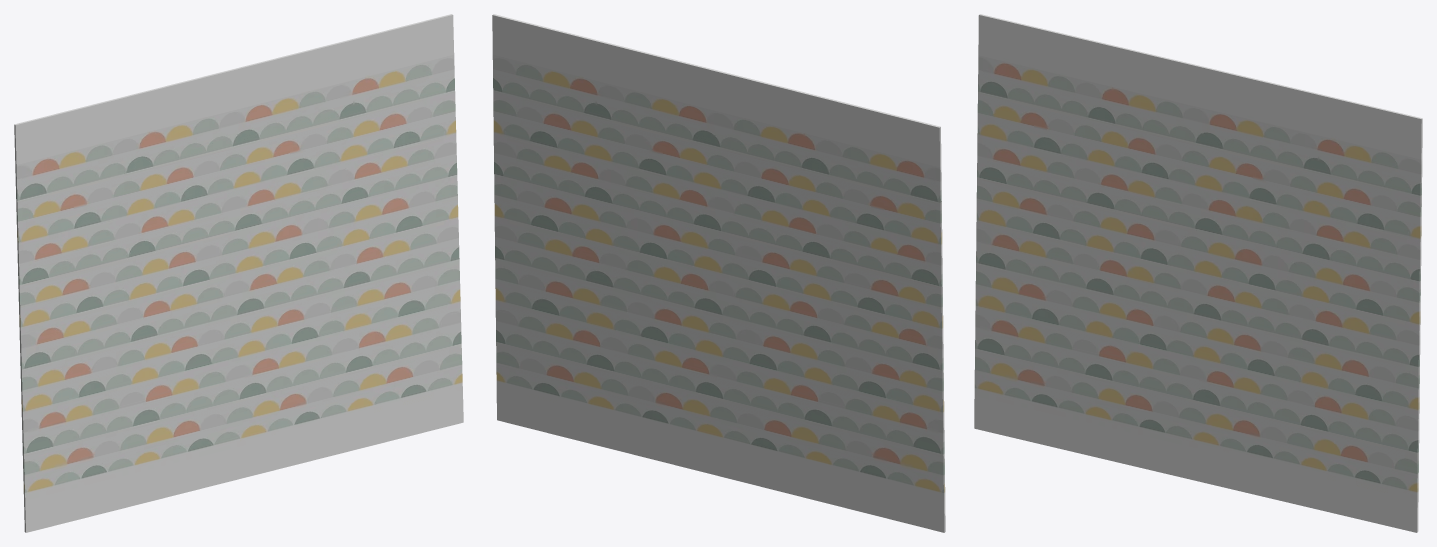
3 views of the same model, side by side, from view 1: azimuth 30°, elevation 25°; view 2: azimuth 150°, elevation 25°; view 3: azimuth 330°, elevation 25° (orthographic). The views are drawn at different scales.
Visible parts, largest first — view 1: Mesh_0.019; view 2: Mesh_0.019; view 3: Mesh_0.019.
Part boxes in pixels (x1,y1,x2,y2): Mesh_0.019: (14,14,463,532); Mesh_0.019: (492,14,945,532); Mesh_0.019: (974,14,1422,532).
Bounding box in the file's own units: 2.29 × 2.02 × 0.0804.
Materials: 1 (1 with a texture image).
